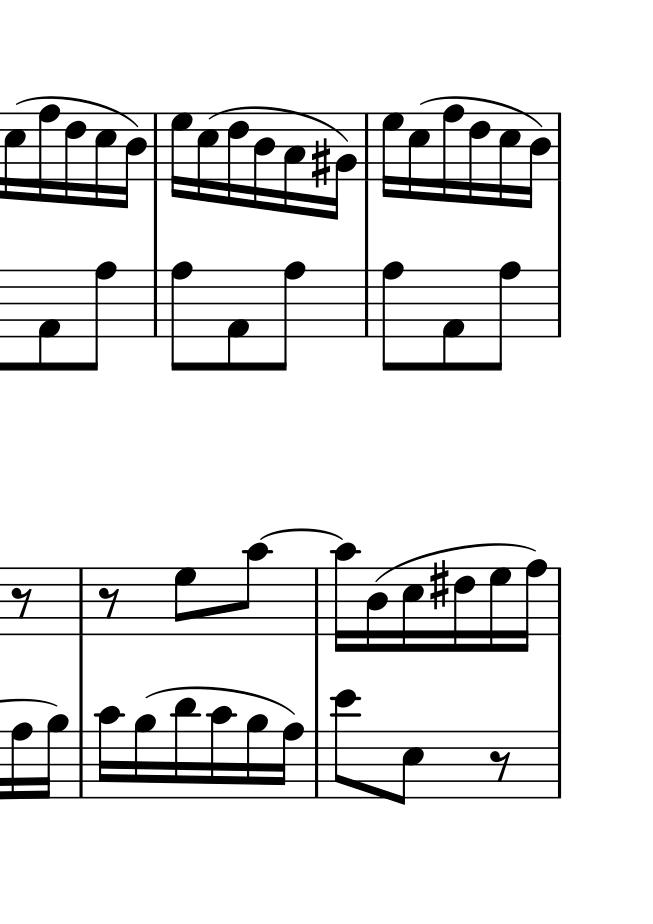16_10: (206, 705, 239, 801), (333, 543, 361, 652), (96, 706, 125, 801)
16_11: (170, 697, 201, 799)
16_2: (329, 111, 359, 221)
16_3: (281, 112, 305, 215)
16_4: (120, 112, 148, 209), (526, 110, 553, 210), (253, 113, 278, 210), (364, 567, 387, 652)
16_5: (496, 111, 521, 208), (195, 111, 220, 204), (93, 111, 117, 206), (2, 111, 27, 201), (400, 566, 425, 653), (408, 111, 431, 201)
16_6: (467, 111, 492, 206), (62, 112, 87, 206), (226, 112, 249, 209), (453, 565, 475, 653)
16_7: (379, 109, 405, 198), (170, 112, 193, 200), (488, 567, 511, 653)
16_8: (515, 559, 547, 651), (439, 103, 465, 201), (37, 104, 60, 204), (273, 722, 303, 798), (9, 722, 34, 802)
16_9: (39, 713, 70, 800), (244, 714, 270, 799), (133, 713, 155, 800)
8_1: (225, 268, 251, 373), (438, 268, 464, 373), (35, 268, 61, 372)
8_10: (239, 542, 268, 636)
8_12: (330, 689, 361, 798)
8_5: (397, 730, 425, 806)
8_7: (173, 567, 196, 636)
8_8: (83, 260, 117, 371), (489, 259, 521, 373), (274, 261, 306, 373), (380, 260, 406, 375), (168, 260, 194, 374)
Rests8: (489, 747, 510, 784), (98, 585, 121, 618), (9, 586, 33, 616)
Sharp: (429, 559, 450, 612), (312, 137, 330, 187)
Single_barline: (549, 566, 568, 637), (72, 566, 91, 636), (309, 567, 328, 634), (73, 729, 91, 799), (359, 268, 377, 336), (549, 728, 566, 798), (551, 268, 568, 337), (359, 113, 376, 180), (550, 112, 567, 179), (148, 113, 163, 181), (149, 268, 163, 338), (311, 730, 325, 798)
Slur: (375, 541, 539, 583), (208, 105, 353, 143), (146, 686, 298, 715), (14, 94, 137, 129), (421, 96, 543, 127), (258, 526, 347, 542)
